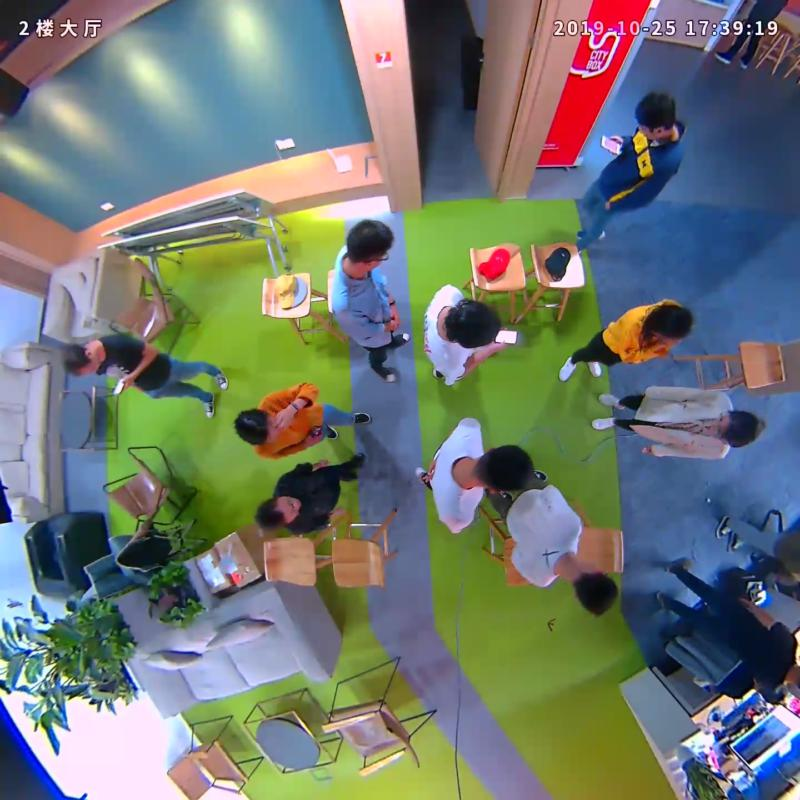head: (475, 445, 535, 491), (568, 564, 618, 617), (449, 299, 502, 349), (347, 219, 393, 272), (708, 410, 762, 448), (634, 92, 676, 140), (649, 304, 693, 346), (234, 408, 281, 446), (255, 494, 301, 529), (60, 343, 101, 378)
